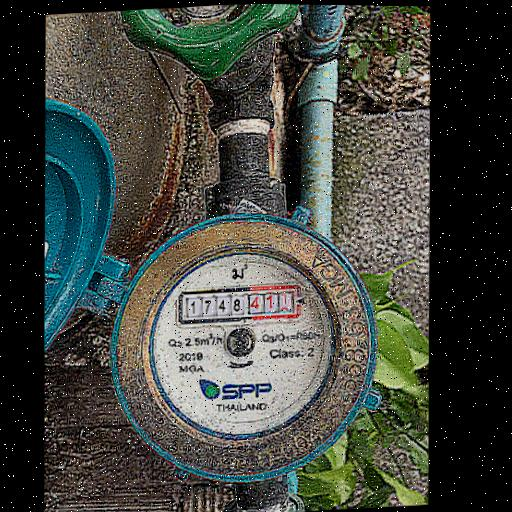1: (263, 294, 279, 314), (187, 298, 201, 318), (279, 293, 293, 313)
4: (216, 296, 231, 316), (248, 295, 263, 315)
7: (202, 298, 216, 317)
8: (230, 296, 245, 316)
border_water_meter_number: (176, 282, 304, 326)
